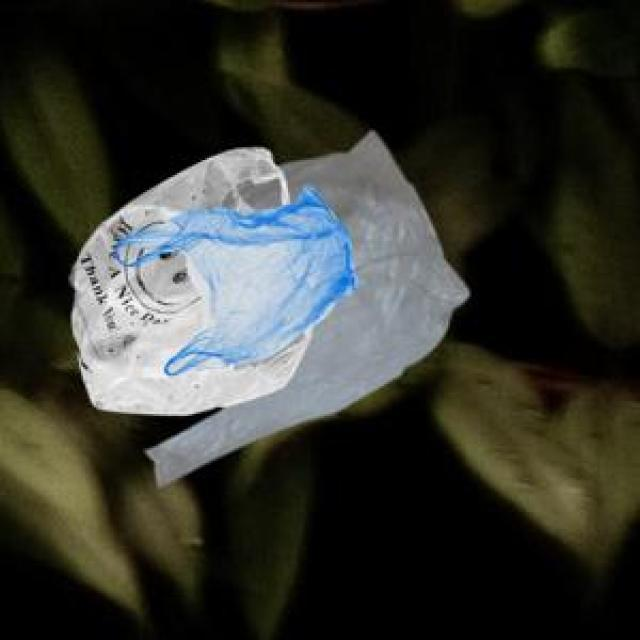waste: (71, 132, 468, 486)
